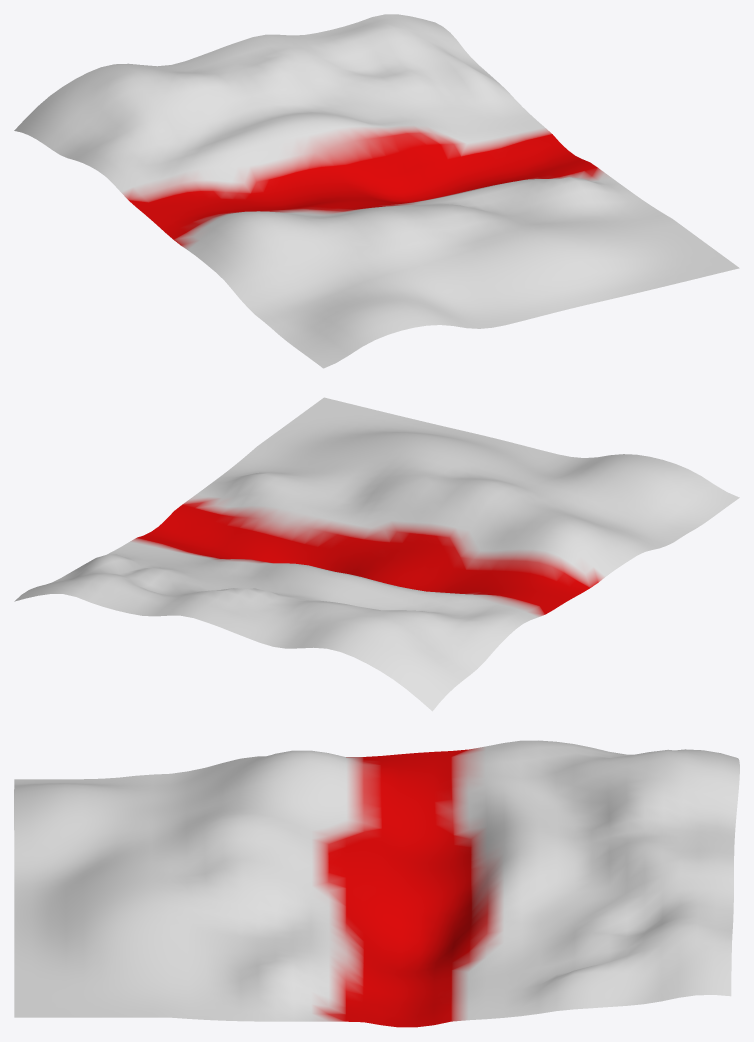
File: TerrainGrassExampleVertexColor.fbx
3 renders of one model, top to bottom at view 1: azimuth 30°, elevation 25°; view 2: azimuth 150°, elevation 25°; view 3: azimuth 270°, elevation 25°, orthographic. The views are drawn at different scales.
Visible parts, largest first — view 1: TerrainGrassExampleVertexColor; view 2: TerrainGrassExampleVertexColor; view 3: TerrainGrassExampleVertexColor.
Part boxes in pixels (x1,y1,x2,y2): TerrainGrassExampleVertexColor: (14, 14, 739, 368); TerrainGrassExampleVertexColor: (14, 397, 739, 711); TerrainGrassExampleVertexColor: (14, 740, 739, 1027).
Bounding box in the file's own units: 1594 × 306 × 2041.
